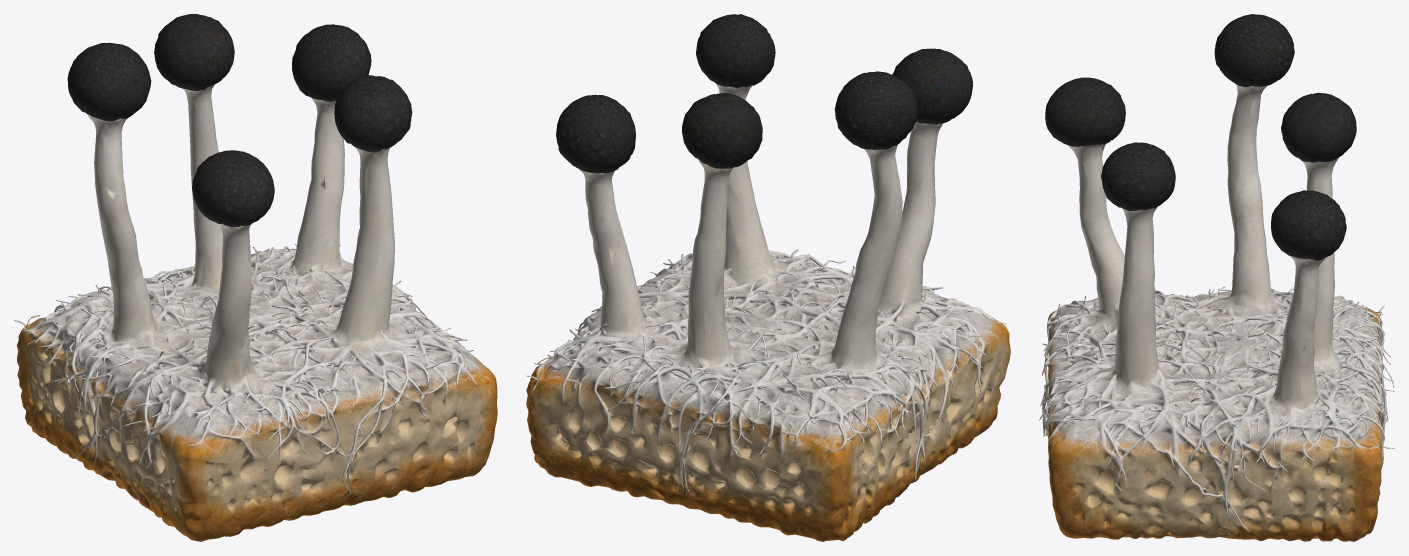
Rendered from bread-mold.glb.
3 views of the same model, side by side, from view 1: azimuth 30°, elevation 25°; view 2: azimuth 150°, elevation 25°; view 3: azimuth 270°, elevation 25° (orthographic). The views are drawn at different scales.
Parts seen in each view (by area): view 1: lod60000; view 2: lod60000; view 3: lod60000.
Part boxes in pixels (x1=…): lod60000: x1=14, y1=14, x2=497, y2=541; lod60000: x1=526, y1=14, x2=1010, y2=541; lod60000: x1=1039, y1=14, x2=1394, y2=541.
Bounding box in the file's own units: 1.64 × 1.9 × 1.55.
Materials: 1 (1 with a texture image).
